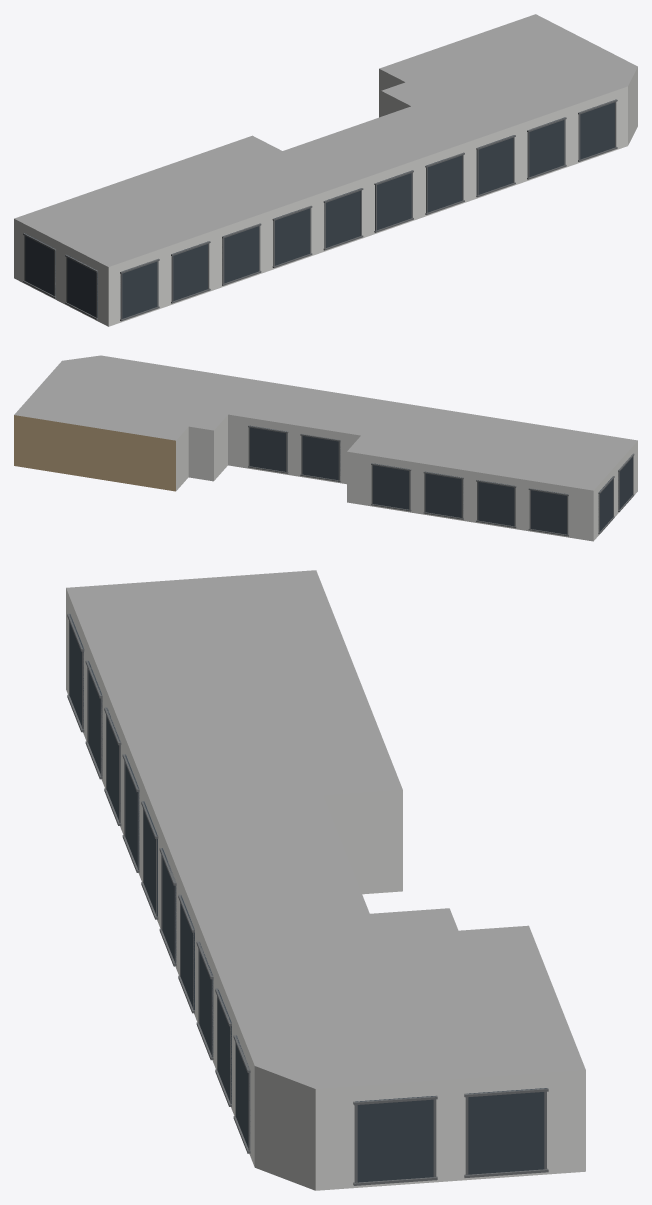
Rendered from level-5.glb.
The picture shows the model from 3 angles, top to bottom: view 1: azimuth 30°, elevation 25°; view 2: azimuth 150°, elevation 25°; view 3: azimuth 270°, elevation 25°; orthographic projection. The views are drawn at different scales.
Visible parts, largest first — view 1: building, facade; view 2: building, facade; view 3: building, facade.
Boxes of the visible parts, bbox=[...] form: building: bbox=[14, 14, 637, 326]; facade: bbox=[23, 99, 617, 321]; building: bbox=[14, 355, 637, 541]; facade: bbox=[248, 425, 634, 536]; building: bbox=[66, 570, 585, 1190]; facade: bbox=[67, 613, 548, 1185].
Size of the model in its own units: 32.79 by 3 by 13.89.
